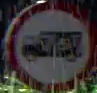Heavy Vehicles: (6, 3, 95, 92)
